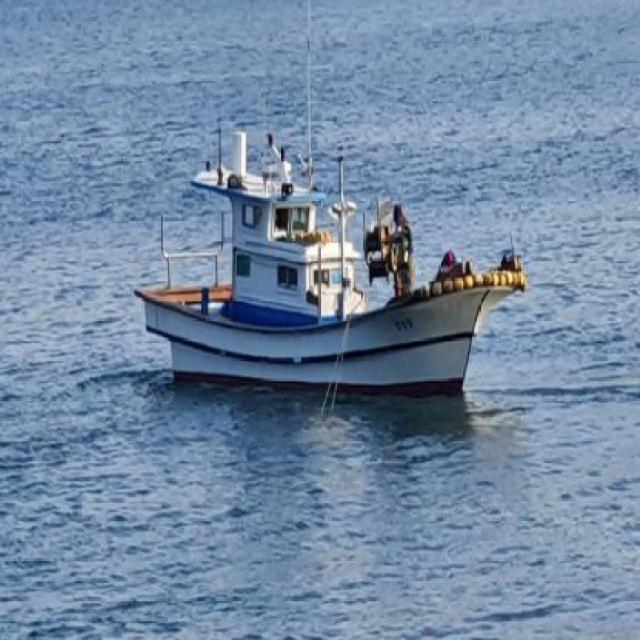fish-b: (136, 87, 545, 427)
